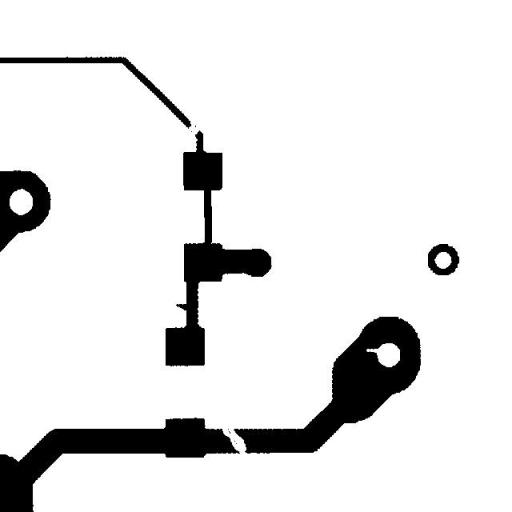mousebite: (358, 341, 386, 363)
open: (214, 420, 254, 464), (181, 113, 207, 142)
short: (196, 175, 219, 256)
spur: (168, 296, 198, 318)
